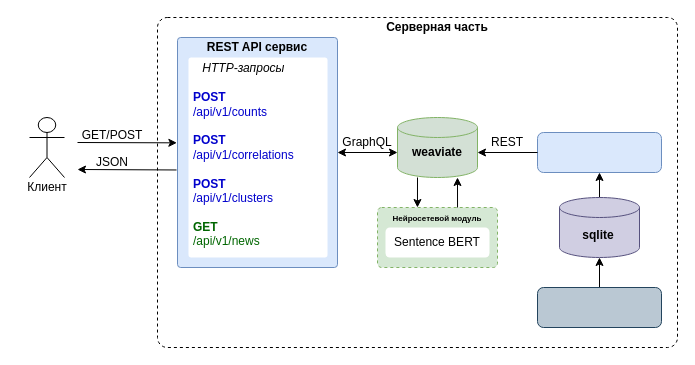
This 695x365 diagram has some shape labels left out. Here are the shapes that lost their labels. From the top down, the box of each, then its label:
(536, 132, 662, 172): Скрипт добавления данных
(536, 286, 662, 328): Парсер новостей
